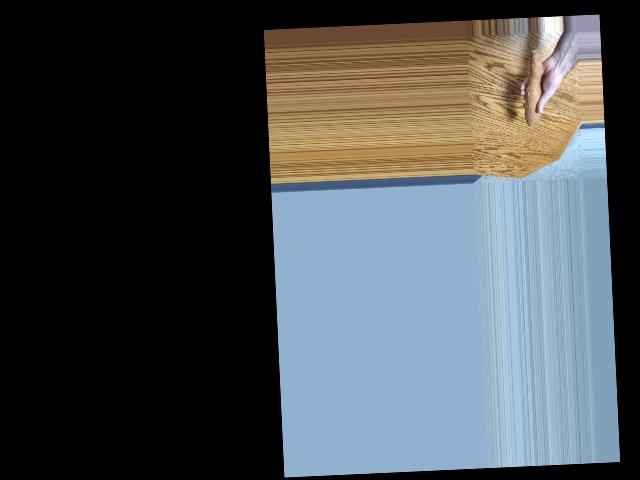sweet_potato: (519, 45, 546, 128)
